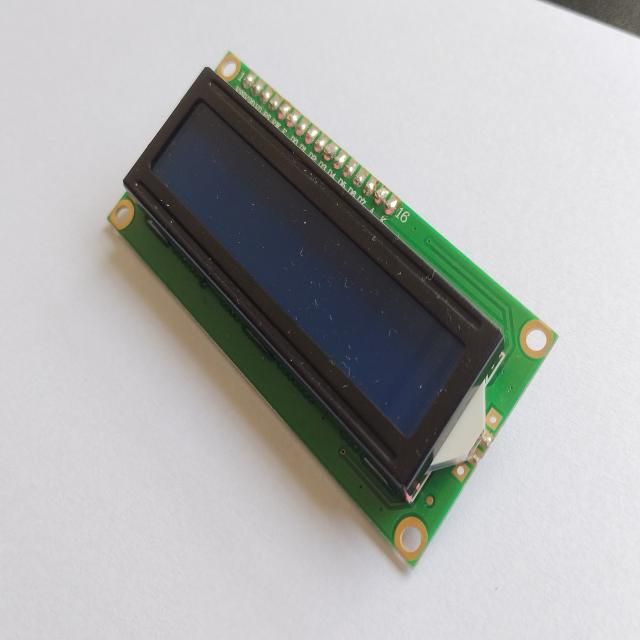lcd: (106, 40, 570, 575)
